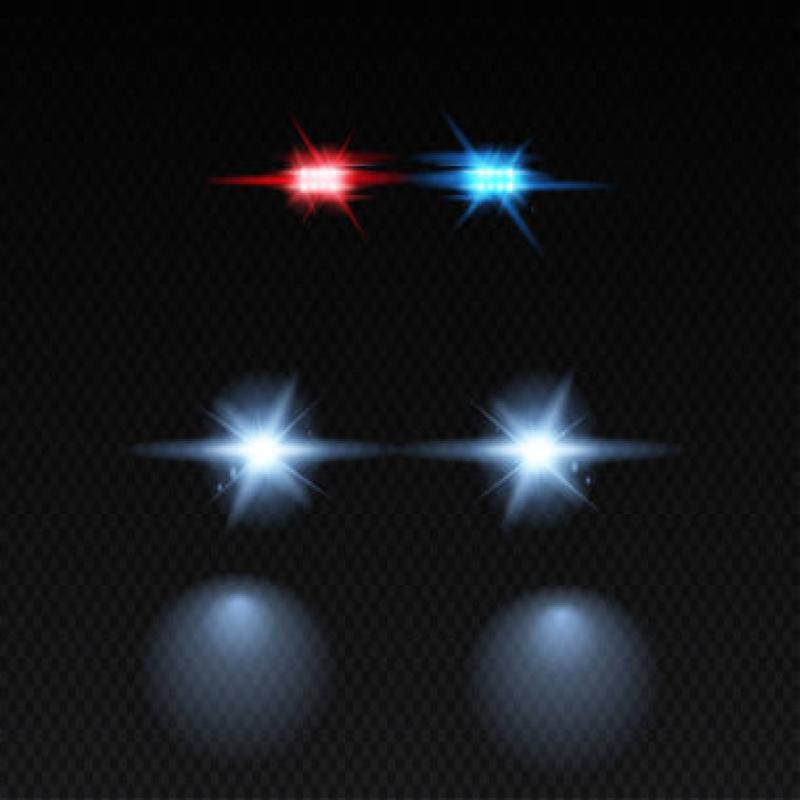AmbulanceSiren: (255, 125, 556, 223)
